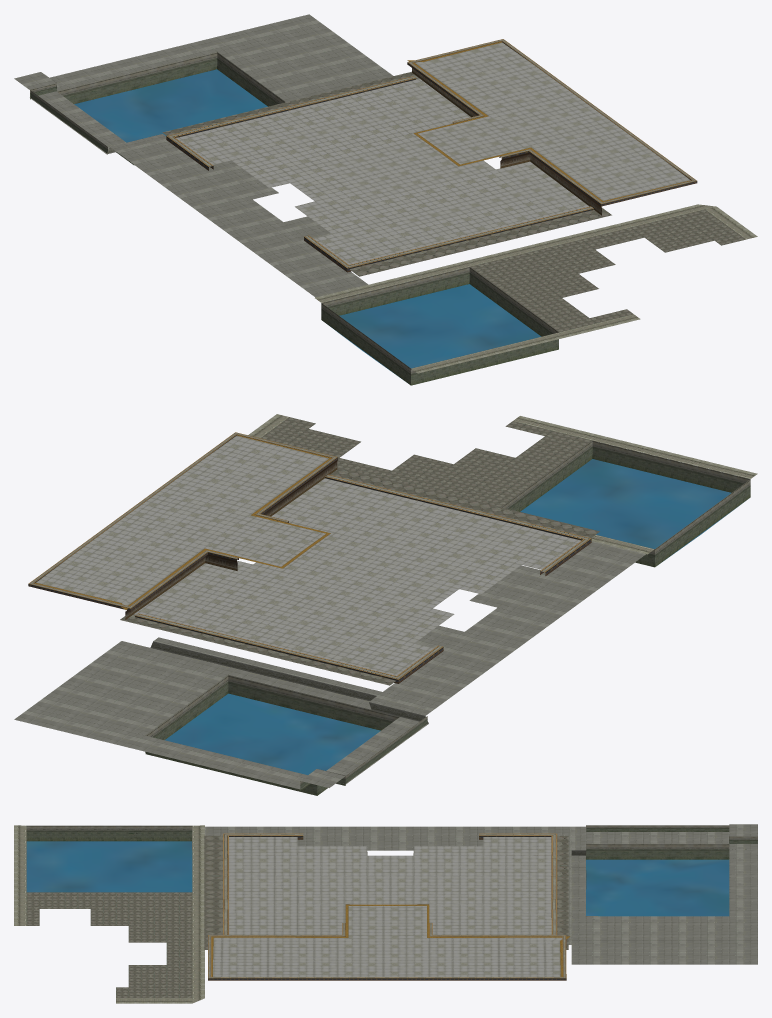
File: Yland1_dm_02 Yland1.FBX
3 views of the same model, one above another, from view 1: azimuth 30°, elevation 25°; view 2: azimuth 150°, elevation 25°; view 3: azimuth 270°, elevation 25° (orthographic). The views are drawn at different scales.
Visible parts, largest first — view 1: Yland1_dm_02 Yland1; view 2: Yland1_dm_02 Yland1; view 3: Yland1_dm_02 Yland1.
Boxes of the visible parts, x1,y1,x2,y2 form: Yland1_dm_02 Yland1: [14, 14, 757, 385]; Yland1_dm_02 Yland1: [14, 414, 757, 795]; Yland1_dm_02 Yland1: [14, 824, 757, 1003].
Size of the model in its own units: 94.32 by 10.63 by 166.
